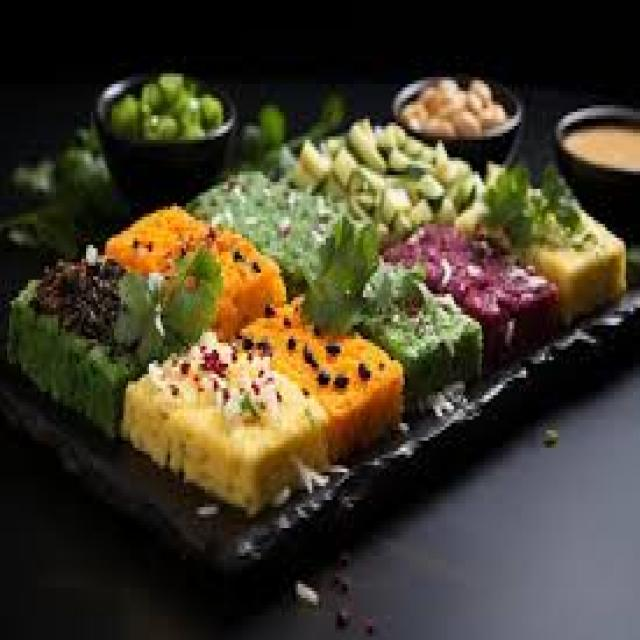DHOKLA: (121, 332, 326, 511)
